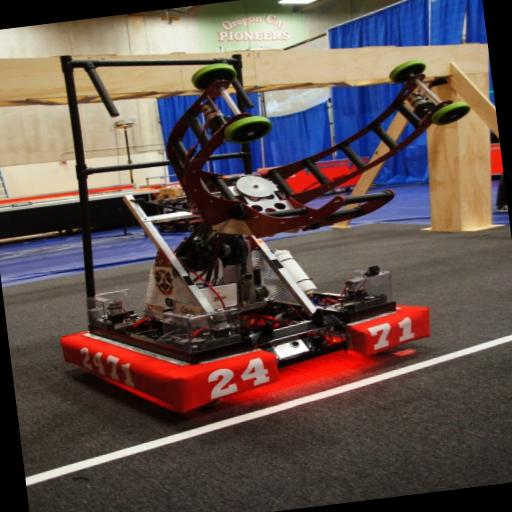robot: (23, 12, 438, 430)
